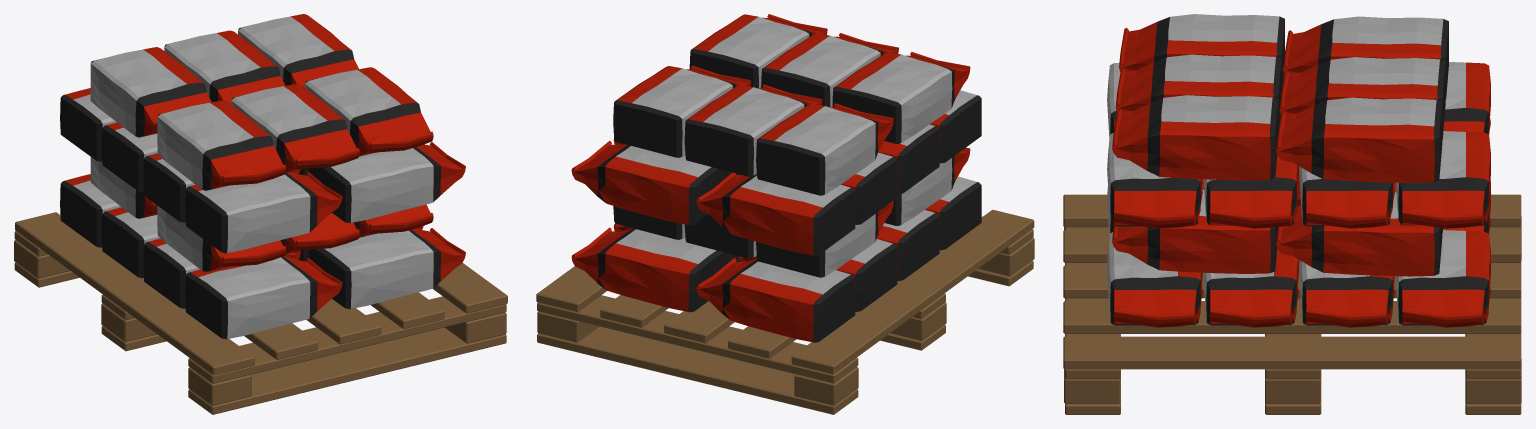
3 views of the same model, side by side, from view 1: azimuth 30°, elevation 25°; view 2: azimuth 150°, elevation 25°; view 3: azimuth 270°, elevation 25° (orthographic). The views are drawn at different scales.
Visible parts, largest first — view 1: Palette mit Zement; view 2: Palette mit Zement; view 3: Palette mit Zement.
Boxes of the visible parts, x1,y1,x2,y2 form: Palette mit Zement: (14,14,507,414); Palette mit Zement: (536,14,1034,414); Palette mit Zement: (1063,14,1521,414).
Bounding box in the file's own units: 6.81 × 4.97 × 7.93.
